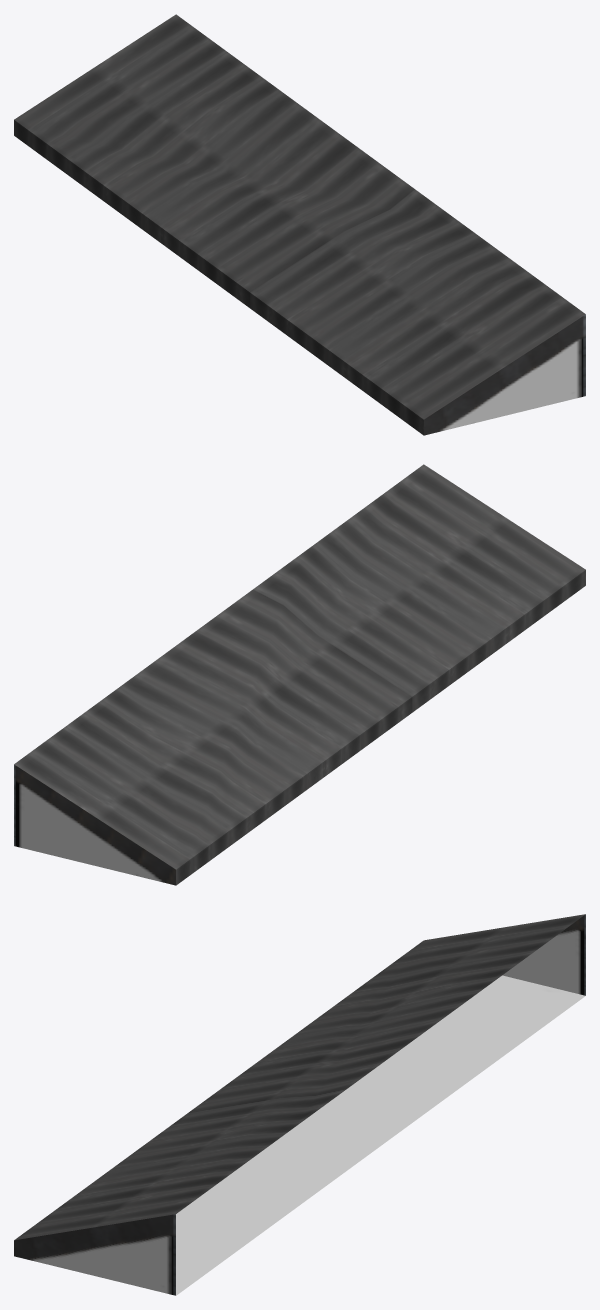
Rendered from KotoHouse_07.fbx.
3 renders of one model, top to bottom at view 1: azimuth 30°, elevation 25°; view 2: azimuth 150°, elevation 25°; view 3: azimuth 330°, elevation 25°, orthographic.
Parts seen in each view (by area): view 1: SM_KotoHouse006; view 2: SM_KotoHouse006; view 3: SM_KotoHouse006.
Part boxes in pixels (bbox=[...]): SM_KotoHouse006: bbox=[14, 14, 585, 435]; SM_KotoHouse006: bbox=[14, 464, 585, 885]; SM_KotoHouse006: bbox=[14, 914, 585, 1295].
Bounding box in the file's own units: 83.16 × 40.07 × 364.
Materials: 1 (1 with a texture image).
